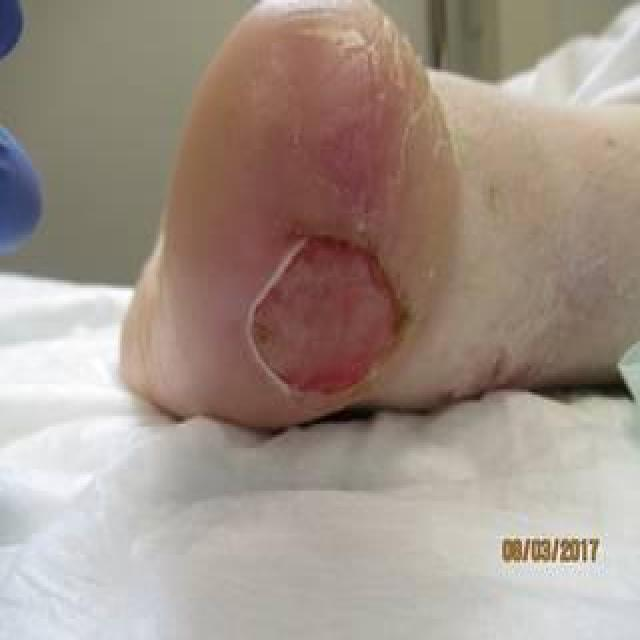stage-3: (251, 238, 399, 391)
